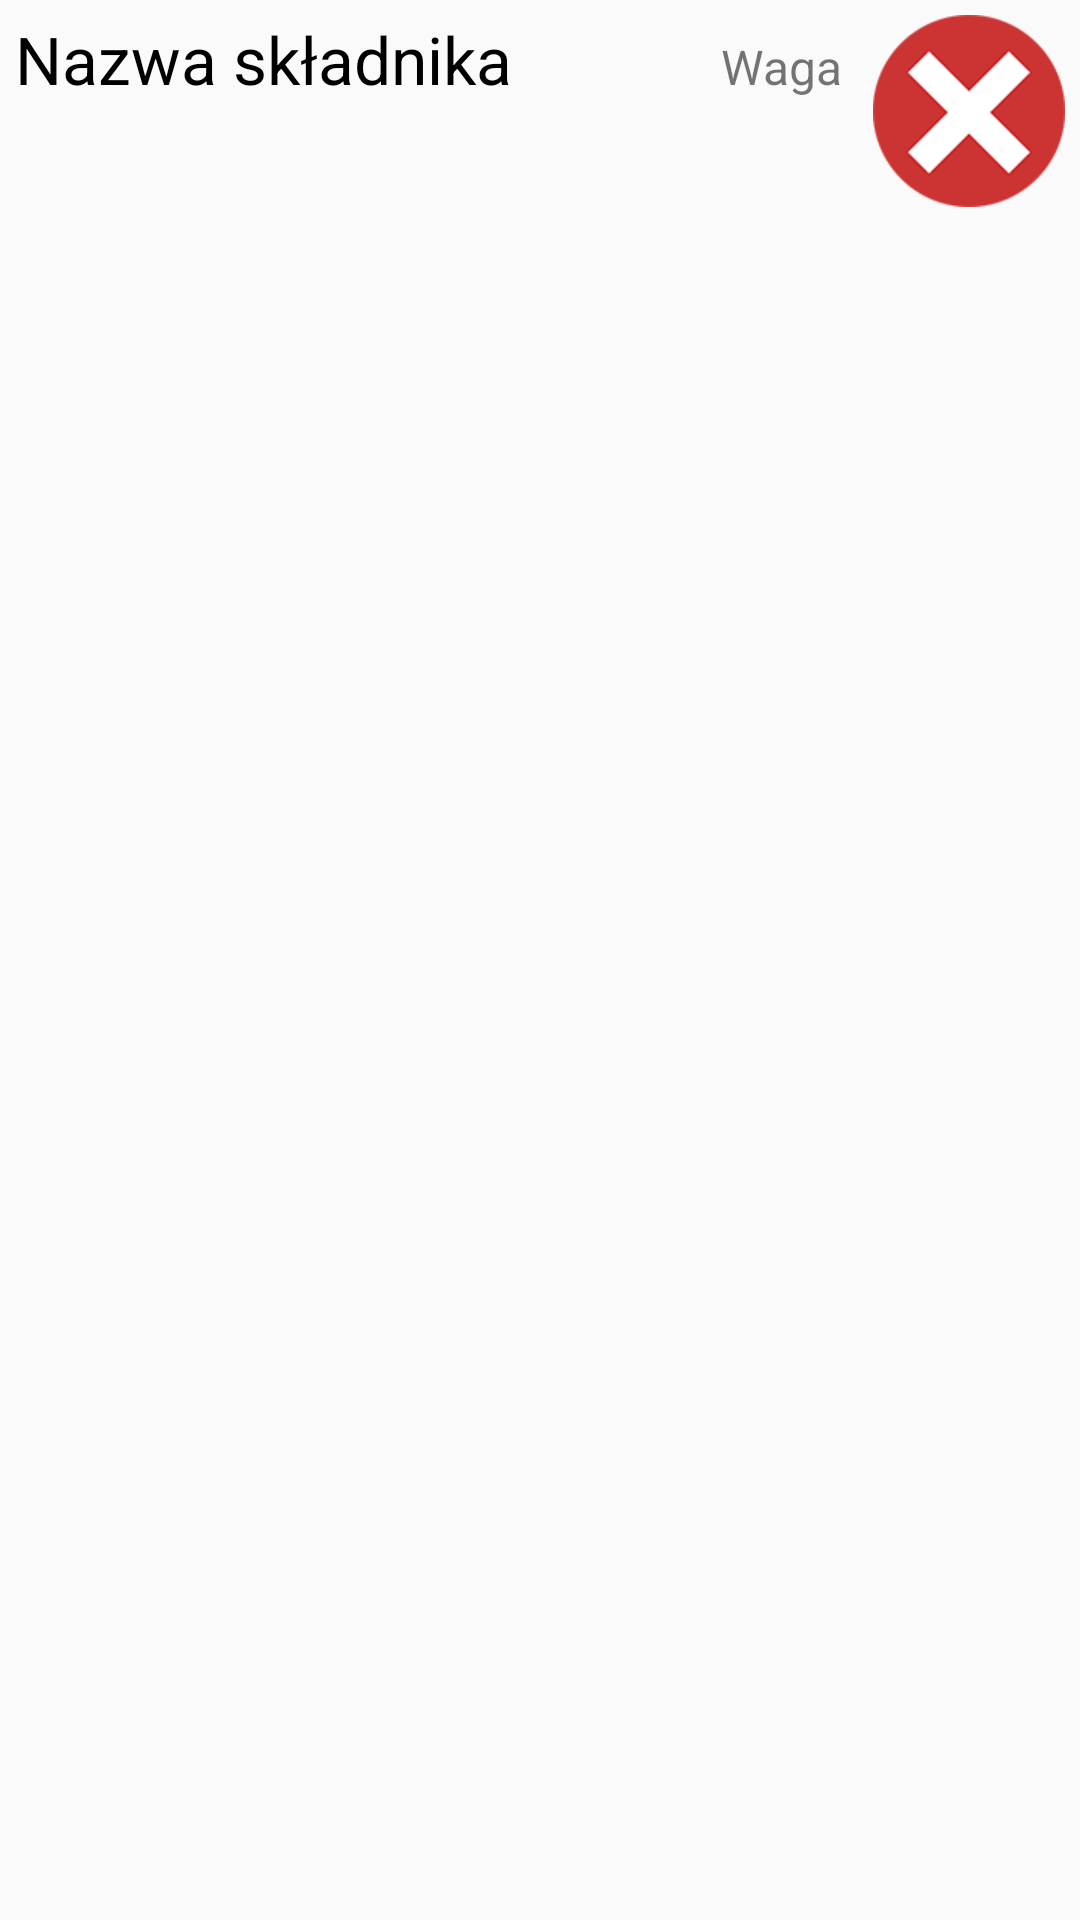

Where to tap for icons on this 1080*1920 app screen, as (x=x, y=y):
delete: (x=969, y=111)
